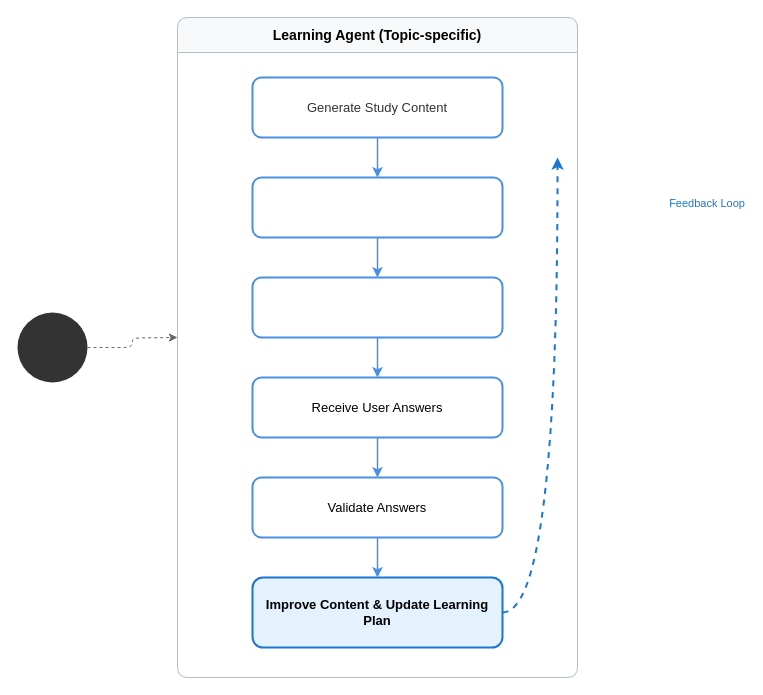
Some shapes in this 763 by 695 pixel diagram are drawn without their labels. Each missing label, with the box of its shape:
Deliver Content + Quiz: (251, 276, 503, 338)
Generate Quiz: (251, 176, 503, 238)
User: (17, 312, 87, 382)
